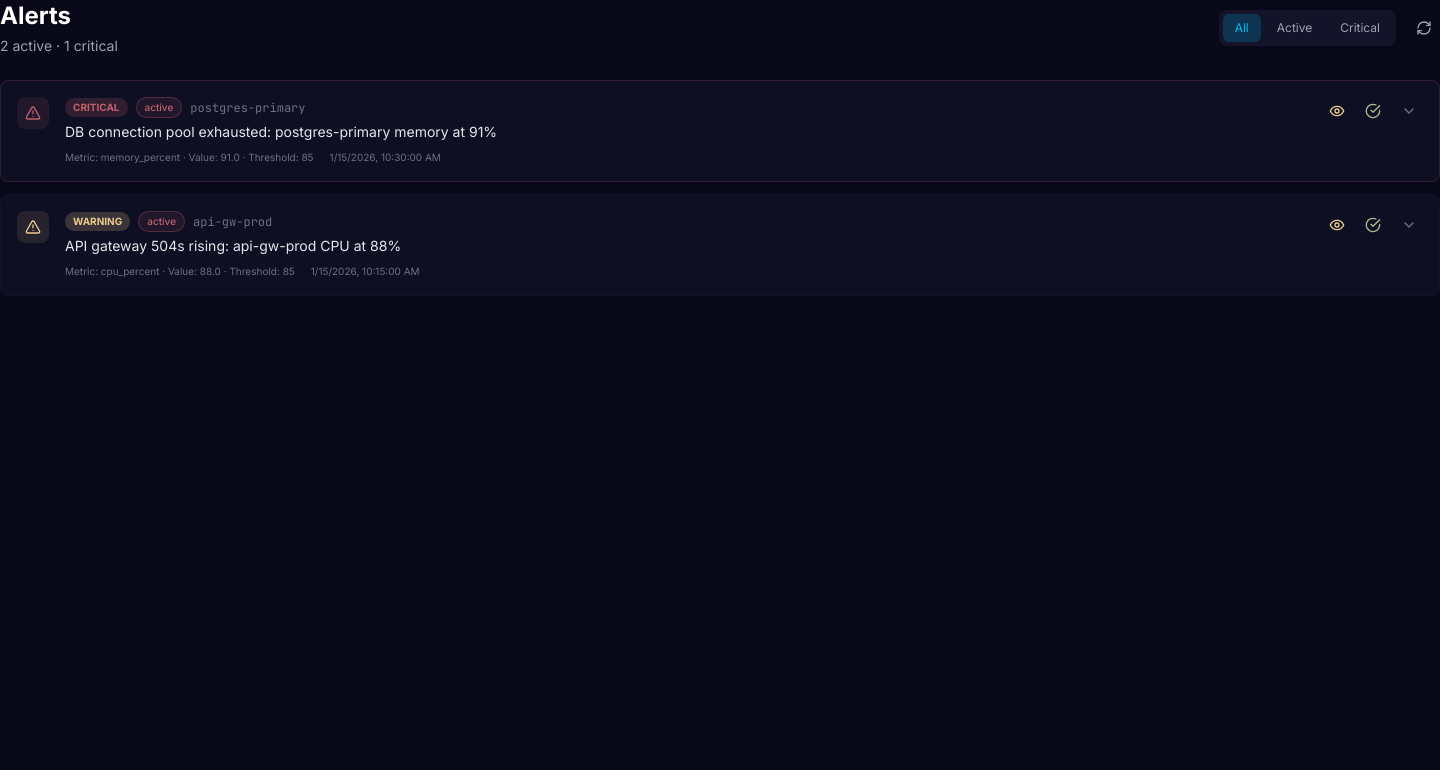
Scenario: AlertPanel › remediation history › fetches and displays remediation history on expand
Click the button with class "lucide-chevron-down" at (1409,111), box [1395,97,1423,125]
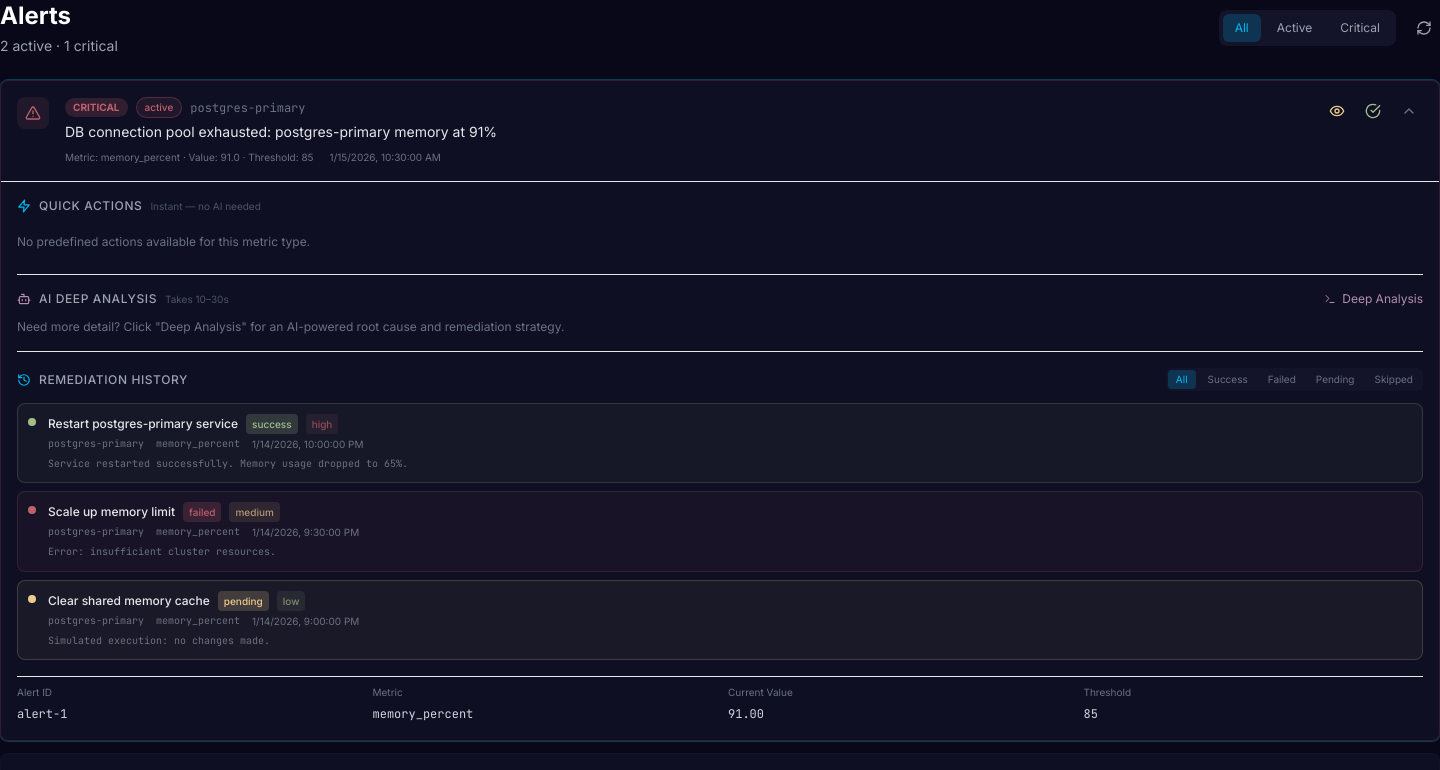
Now the heading "Remediation History" is shown, box [39,372,188,388]
Now the text "Restart postgres-primary service" is shown, box [48,416,238,432]
Now the text "Scale up memory limit" is shown, box [48,504,175,520]
